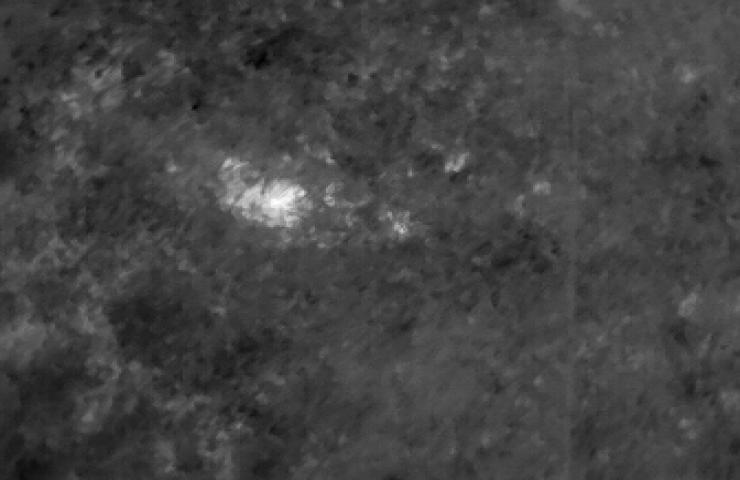landmines: (223, 173, 317, 229)
